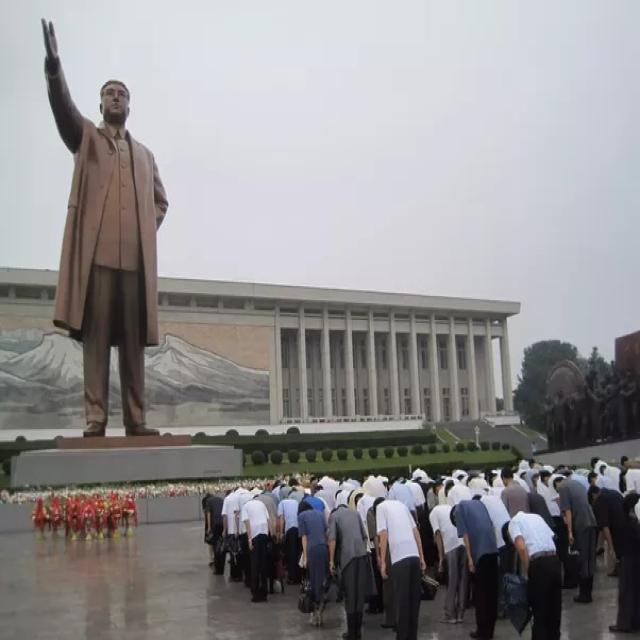body: (36, 11, 170, 442), (221, 452, 639, 504), (542, 351, 639, 452), (585, 482, 639, 638), (500, 509, 564, 640), (371, 494, 428, 639), (448, 496, 500, 638), (550, 474, 598, 606), (424, 501, 472, 626), (326, 501, 369, 640), (294, 498, 334, 630), (346, 503, 386, 613), (240, 497, 271, 603), (405, 502, 441, 588), (494, 503, 519, 623), (440, 541, 480, 612), (260, 503, 286, 596), (275, 496, 301, 588), (590, 504, 620, 582), (320, 503, 343, 603), (232, 503, 255, 593), (204, 490, 227, 576), (498, 466, 532, 521), (527, 502, 584, 534), (551, 532, 579, 594), (220, 487, 238, 583), (199, 493, 217, 569), (529, 439, 539, 463)
